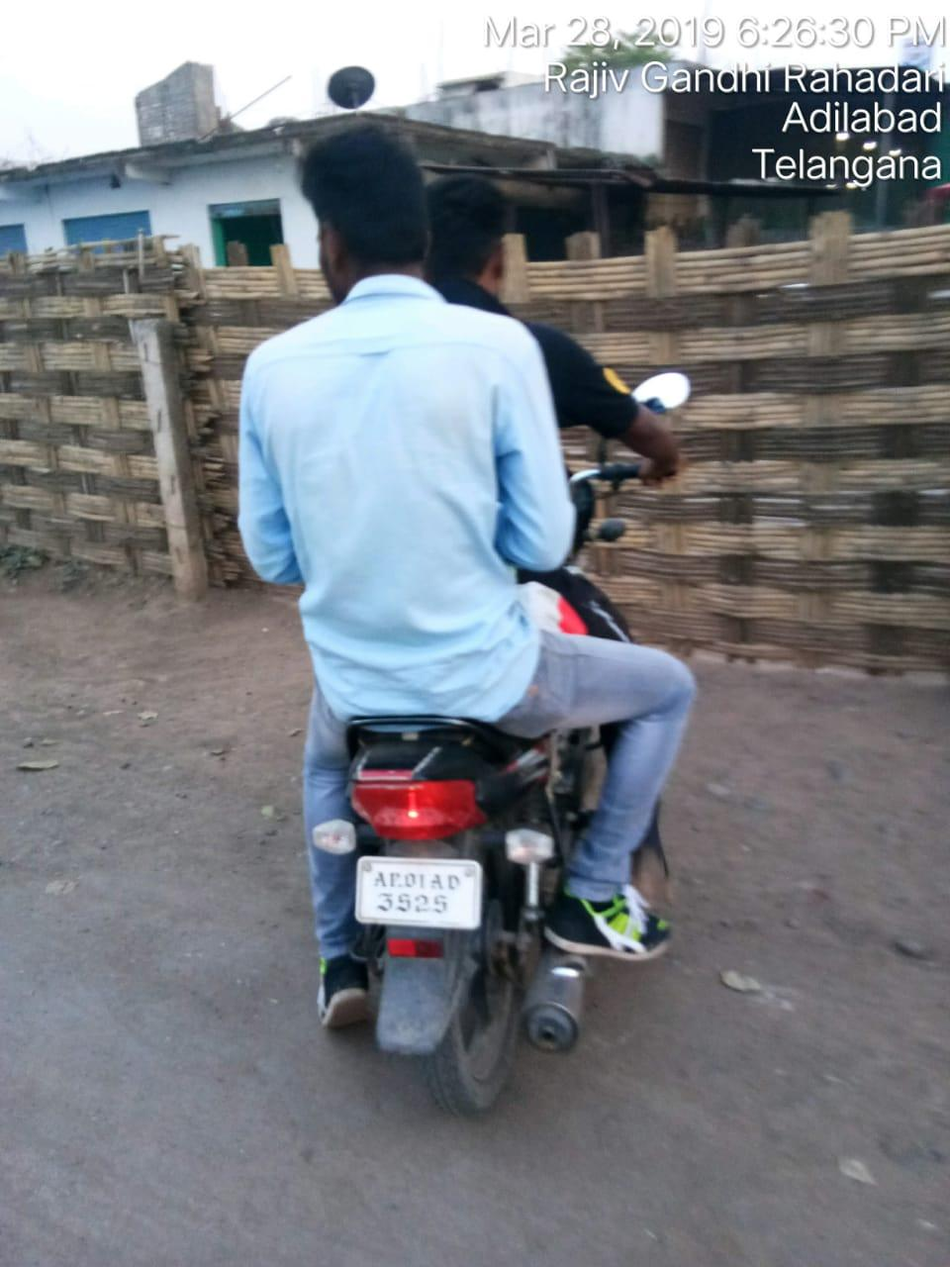plate: (333, 840, 493, 947)
